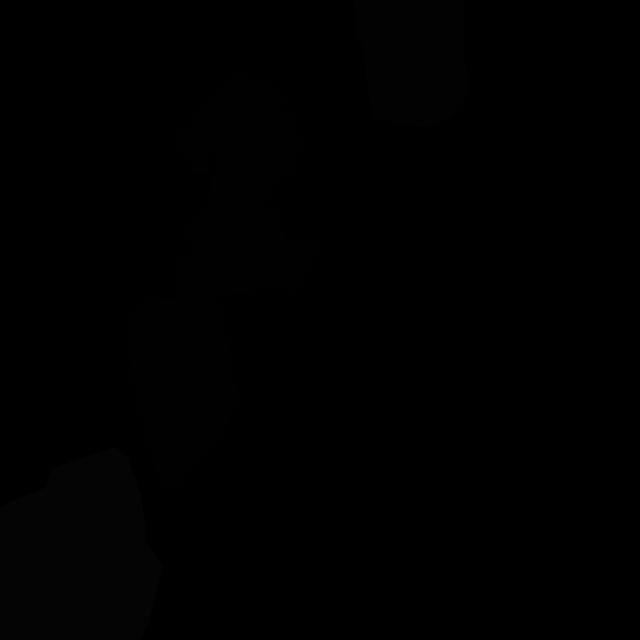cardboard: (353, 0, 470, 127)
rigid_plastic: (174, 73, 322, 300), (128, 295, 241, 490)
soft_plastic: (0, 447, 162, 640)
